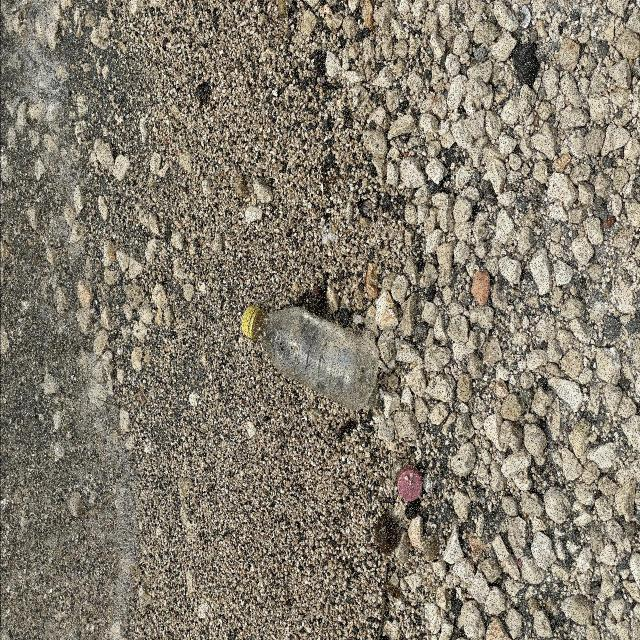plastic_waste: (241, 302, 384, 413), (399, 467, 425, 504)
